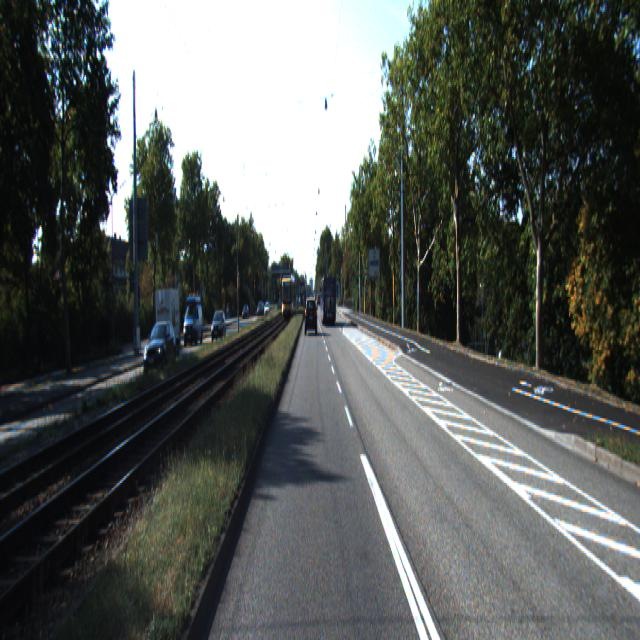Car: (143, 319, 178, 381), (155, 287, 181, 360), (182, 302, 204, 350), (321, 275, 336, 326), (304, 300, 316, 338)
